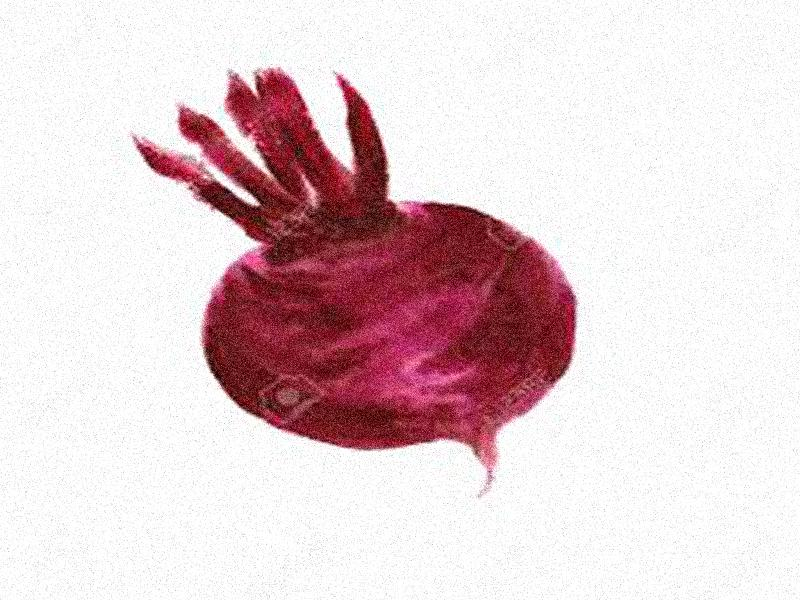Beet: (133, 68, 579, 500)
